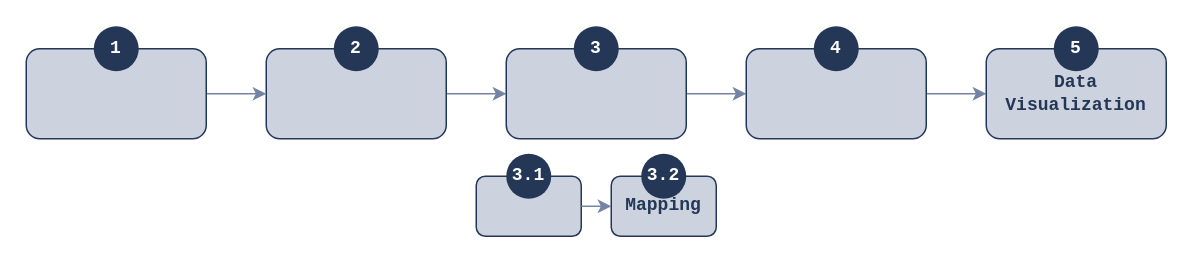
Some shapes in this 1193 by 263 pixel diagram are drawn without their labels. The box of each missing label's shape, as (x1, y1, x2, y2) in pixels:
Cleaning: (475, 175, 581, 236)
Data Analysis: (745, 47, 926, 139)
Data Collection: (265, 47, 446, 139)
Data Transformation: (505, 47, 686, 139)
Problem Framing: (25, 47, 206, 139)
